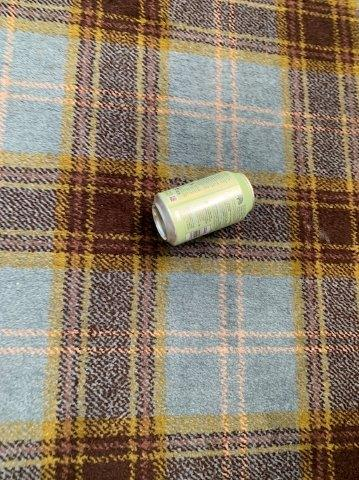kaleng: (153, 172, 254, 245)
